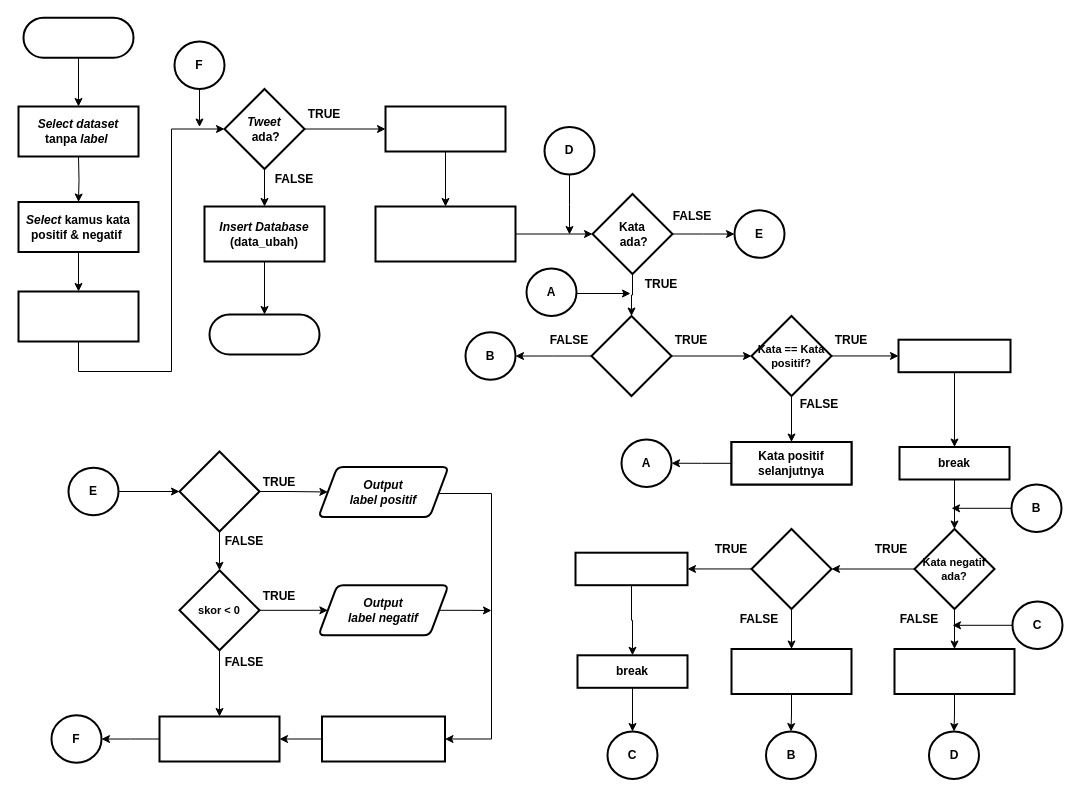
Image size: 1080x798. Some labels were removed from this diagram. Here are the shapes that lost their labels. From the top down, the centre of each, then its label:
point 78,37: START
point 445,128: skor = 0
point 445,233: Pecah Tweet (clean_text) menjadi satuan kata (Kata)
point 78,316: data_ubah = []
point 264,334: END
point 631,355: Kata positif ada?
point 954,355: skor += 1
point 219,491: skor > 0
point 631,568: skor -= 1
point 791,569: Kata == Kata negatif?
point 791,671: Kata negatif selanjutnya
point 954,671: Pecahan Kata selanjutnya
point 219,738: Tweet Selanjutnya
point 383,738: Tampung ke dalam data_ubah
